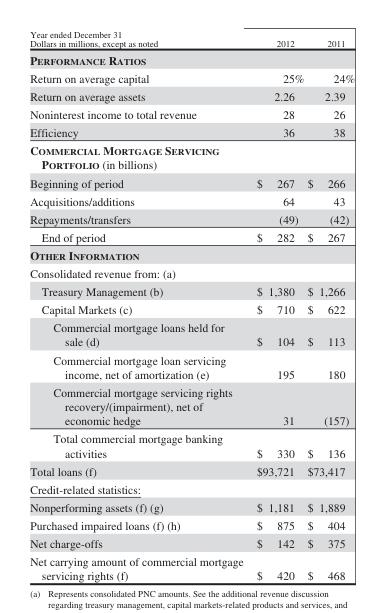table: (29, 28, 354, 581)
table column: (29, 28, 249, 581), (249, 28, 305, 581), (305, 28, 354, 581)
table column header: (29, 28, 354, 50)
table projected row header: (29, 141, 354, 173), (29, 263, 354, 282), (29, 50, 354, 68), (29, 245, 354, 263), (29, 479, 354, 497)
table row: (29, 382, 354, 429), (29, 141, 354, 173), (29, 318, 354, 350), (29, 350, 354, 382), (29, 429, 354, 461), (29, 552, 354, 581), (29, 28, 354, 50), (29, 86, 354, 105), (29, 263, 354, 282), (29, 515, 354, 534), (29, 50, 354, 68), (29, 68, 354, 86), (29, 105, 354, 123), (29, 123, 354, 141), (29, 173, 354, 191), (29, 191, 354, 209), (29, 209, 354, 227), (29, 227, 354, 245), (29, 245, 354, 263), (29, 282, 354, 300), (29, 300, 354, 318), (29, 461, 354, 479), (29, 479, 354, 497), (29, 497, 354, 515), (29, 534, 354, 552)
